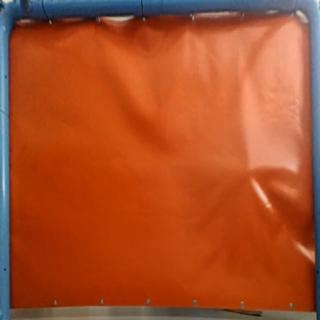Hit-hRxx: (242, 159, 258, 178)
